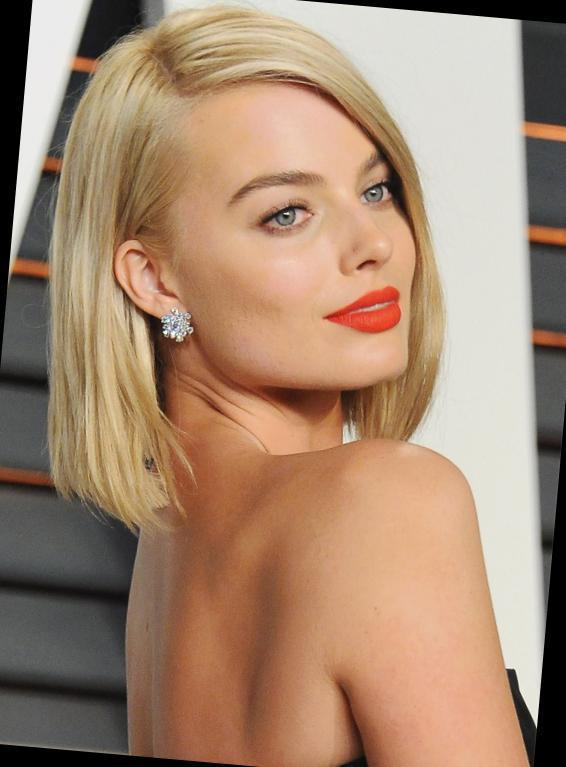Sober: (167, 90, 413, 383)
